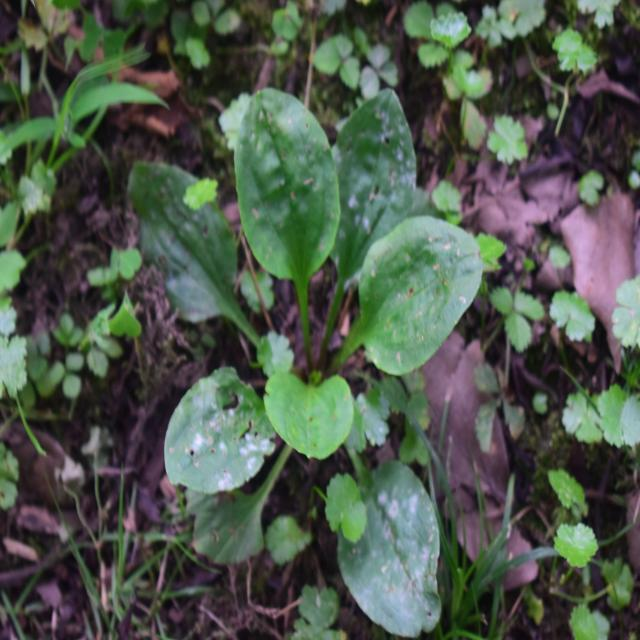plantain: (140, 99, 476, 603)
